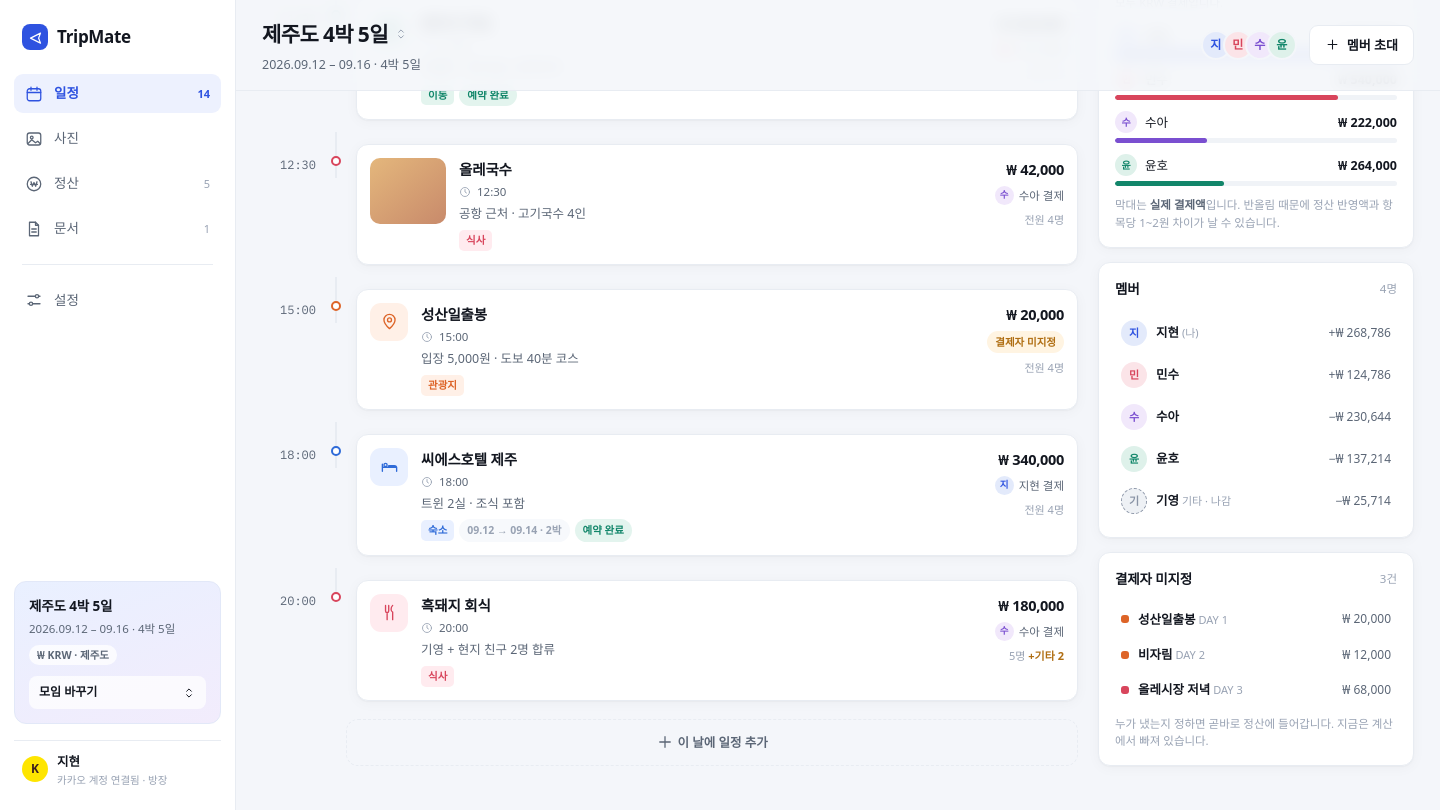
Scenario: 일정 화면 › 결제자 미지정 카드를 누르면 그 자리에서 지정할 수 있는 모달이 열린다
(page scrolled)
Check: the text "3건" is shown, box top-left (1380, 570), bottom-right (1397, 588)
Click the text "비자림": (1155, 654) top-left (1138, 646), bottom-right (1172, 663)
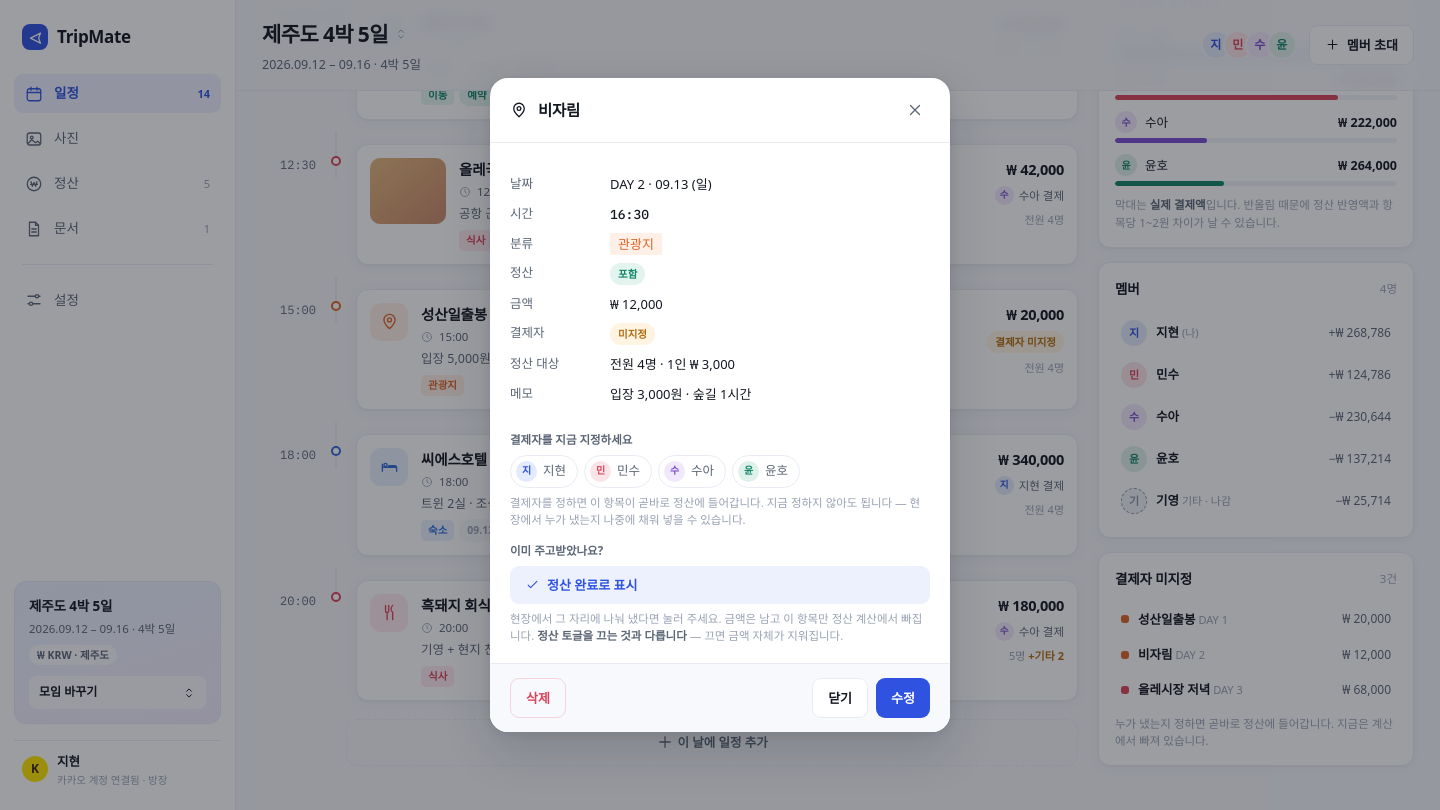
Check: the dialog does not show "기영"
Check: the text "결제자를 지금 지정하세요" is shown, box top-left (510, 432), bottom-right (632, 447)
